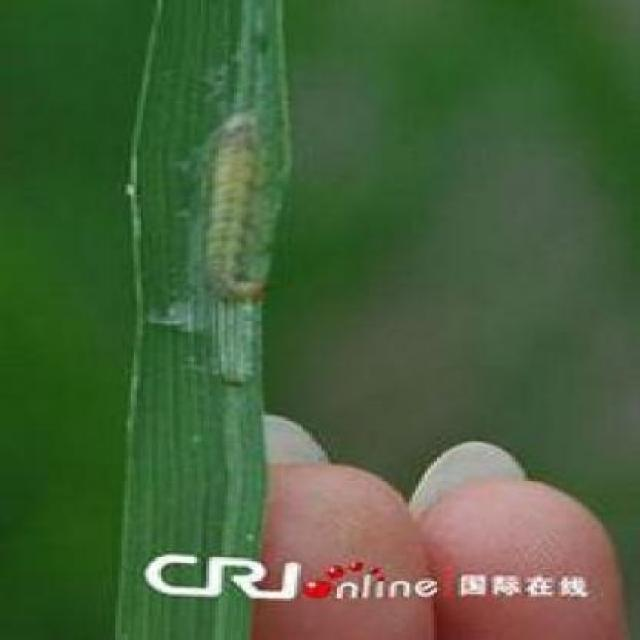leaf-folder: (192, 100, 310, 323)
